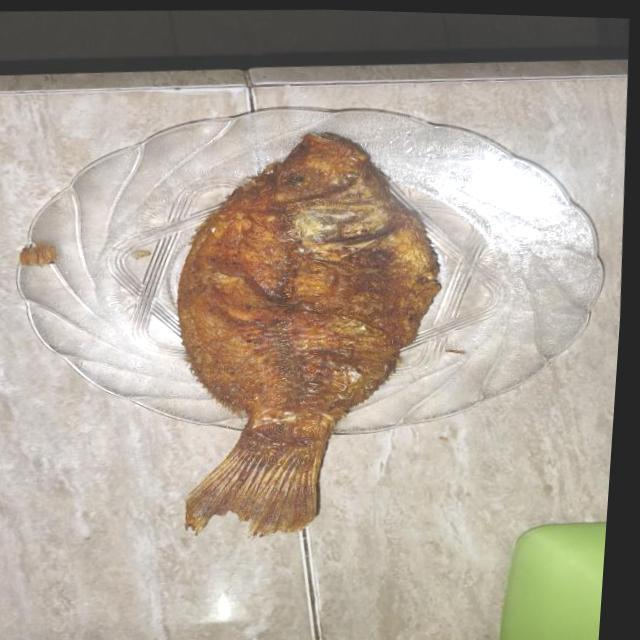ikan_mujair: (177, 132, 439, 536)
